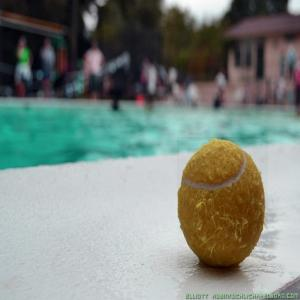TennisBall: (178, 138, 270, 270)
